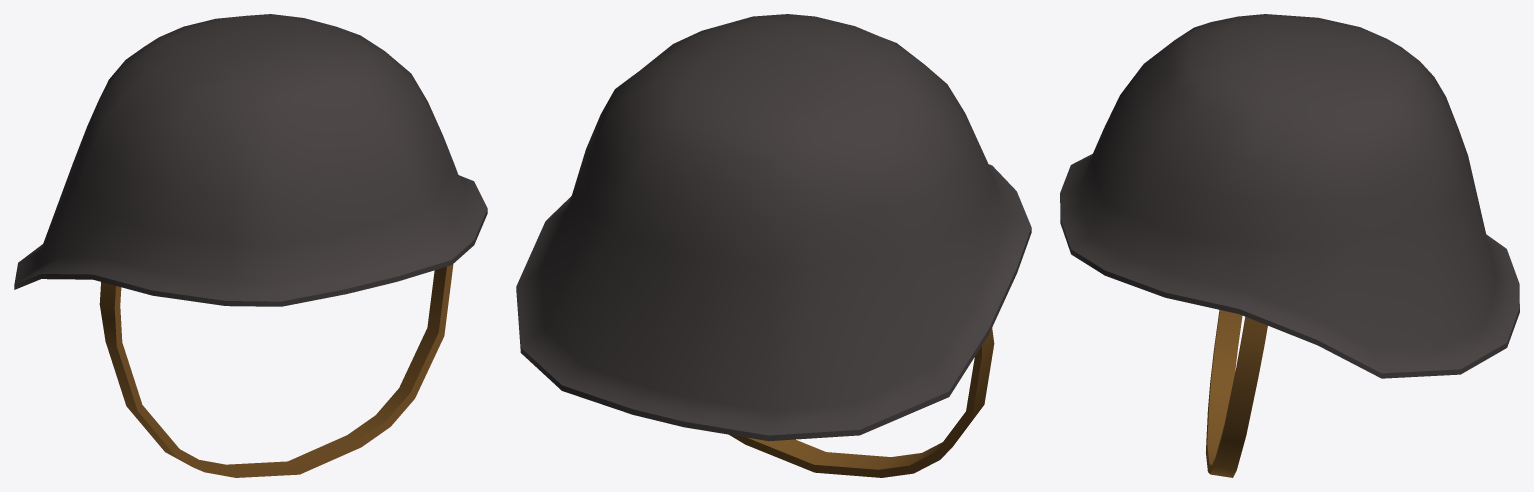
File: Hat_119_02.fbx
The picture shows the model from 3 angles, left to right: view 1: azimuth 30°, elevation 25°; view 2: azimuth 150°, elevation 25°; view 3: azimuth 270°, elevation 25°; orthographic projection. The views are drawn at different scales.
Parts seen in each view (by area): view 1: Hat_119_02; view 2: Hat_119_02; view 3: Hat_119_02.
Boxes of the visible parts, box(x1,y1,x2,y2) form: Hat_119_02: box(14, 14, 487, 477); Hat_119_02: box(516, 14, 1031, 477); Hat_119_02: box(1060, 14, 1519, 477).
Bounding box in the file's own units: 46.35 × 44.65 × 44.81.
